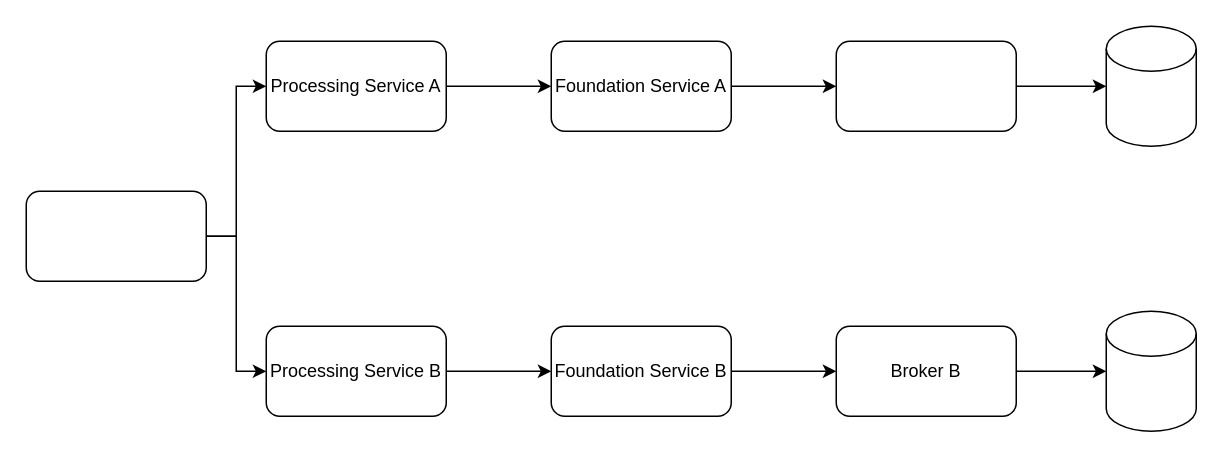
This 1223x458 diagram has some shape labels left out. The centre of each missing label's shape, as x and y in pixels:
"Broker A" belongs at pixel 925 85.
"Orchestration Service" belongs at pixel 115 235.
